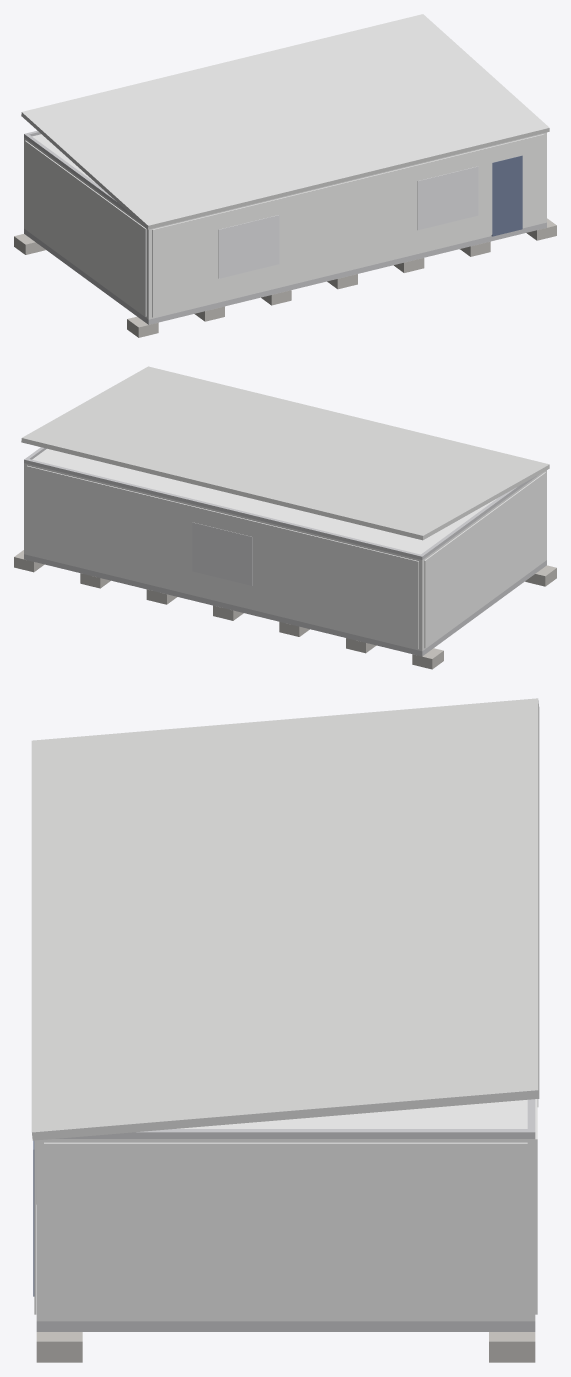
File: Studio-40-Premium+SlopingRoof-LOD2.glb
3 views of the same model, one above another, from view 1: azimuth 30°, elevation 25°; view 2: azimuth 150°, elevation 25°; view 3: azimuth 270°, elevation 25° (orthographic). The views are drawn at different scales.
Parts seen in each view (by area): view 1: RoofSlopingUpgrade, ExteriorPanelsPremium, WindowsLargeUpgrade, BaseFrame, FoundationBlocks, ExteriorShell, EntryDoor, TopFrame; view 2: RoofSlopingUpgrade, ExteriorPanelsPremium, InteriorCeiling, TopFrame, ExteriorShell, BaseFrame, WindowsLargeUpgrade, FoundationBlocks; view 3: RoofSlopingUpgrade, ExteriorPanelsPremium, ExteriorShell, BaseFrame, InteriorCeiling, TopFrame, FoundationBlocks.
Boxes of the visible parts, x1,y1,x2,y2 form: RoofSlopingUpgrade: (21, 14, 549, 229); ExteriorPanelsPremium: (25, 134, 544, 317); WindowsLargeUpgrade: (218, 166, 478, 278); BaseFrame: (24, 222, 546, 324); FoundationBlocks: (14, 218, 556, 337); ExteriorShell: (24, 132, 546, 319); EntryDoor: (491, 155, 522, 236); TopFrame: (24, 130, 136, 219); RoofSlopingUpgrade: (21, 366, 549, 540); ExteriorPanelsPremium: (26, 465, 545, 649); InteriorCeiling: (32, 448, 497, 554); TopFrame: (24, 447, 537, 559); ExteriorShell: (24, 463, 546, 651); BaseFrame: (24, 554, 546, 656); WindowsLargeUpgrade: (192, 522, 252, 585); FoundationBlocks: (14, 550, 556, 669); RoofSlopingUpgrade: (31, 698, 539, 1140); ExteriorPanelsPremium: (34, 1099, 537, 1318); ExteriorShell: (36, 1139, 535, 1321); BaseFrame: (36, 1321, 535, 1331); InteriorCeiling: (177, 1100, 527, 1128); TopFrame: (56, 1099, 535, 1138); FoundationBlocks: (36, 1332, 535, 1362).
Bounding box in the file's own units: 12.49 × 3.77 × 6.56.
